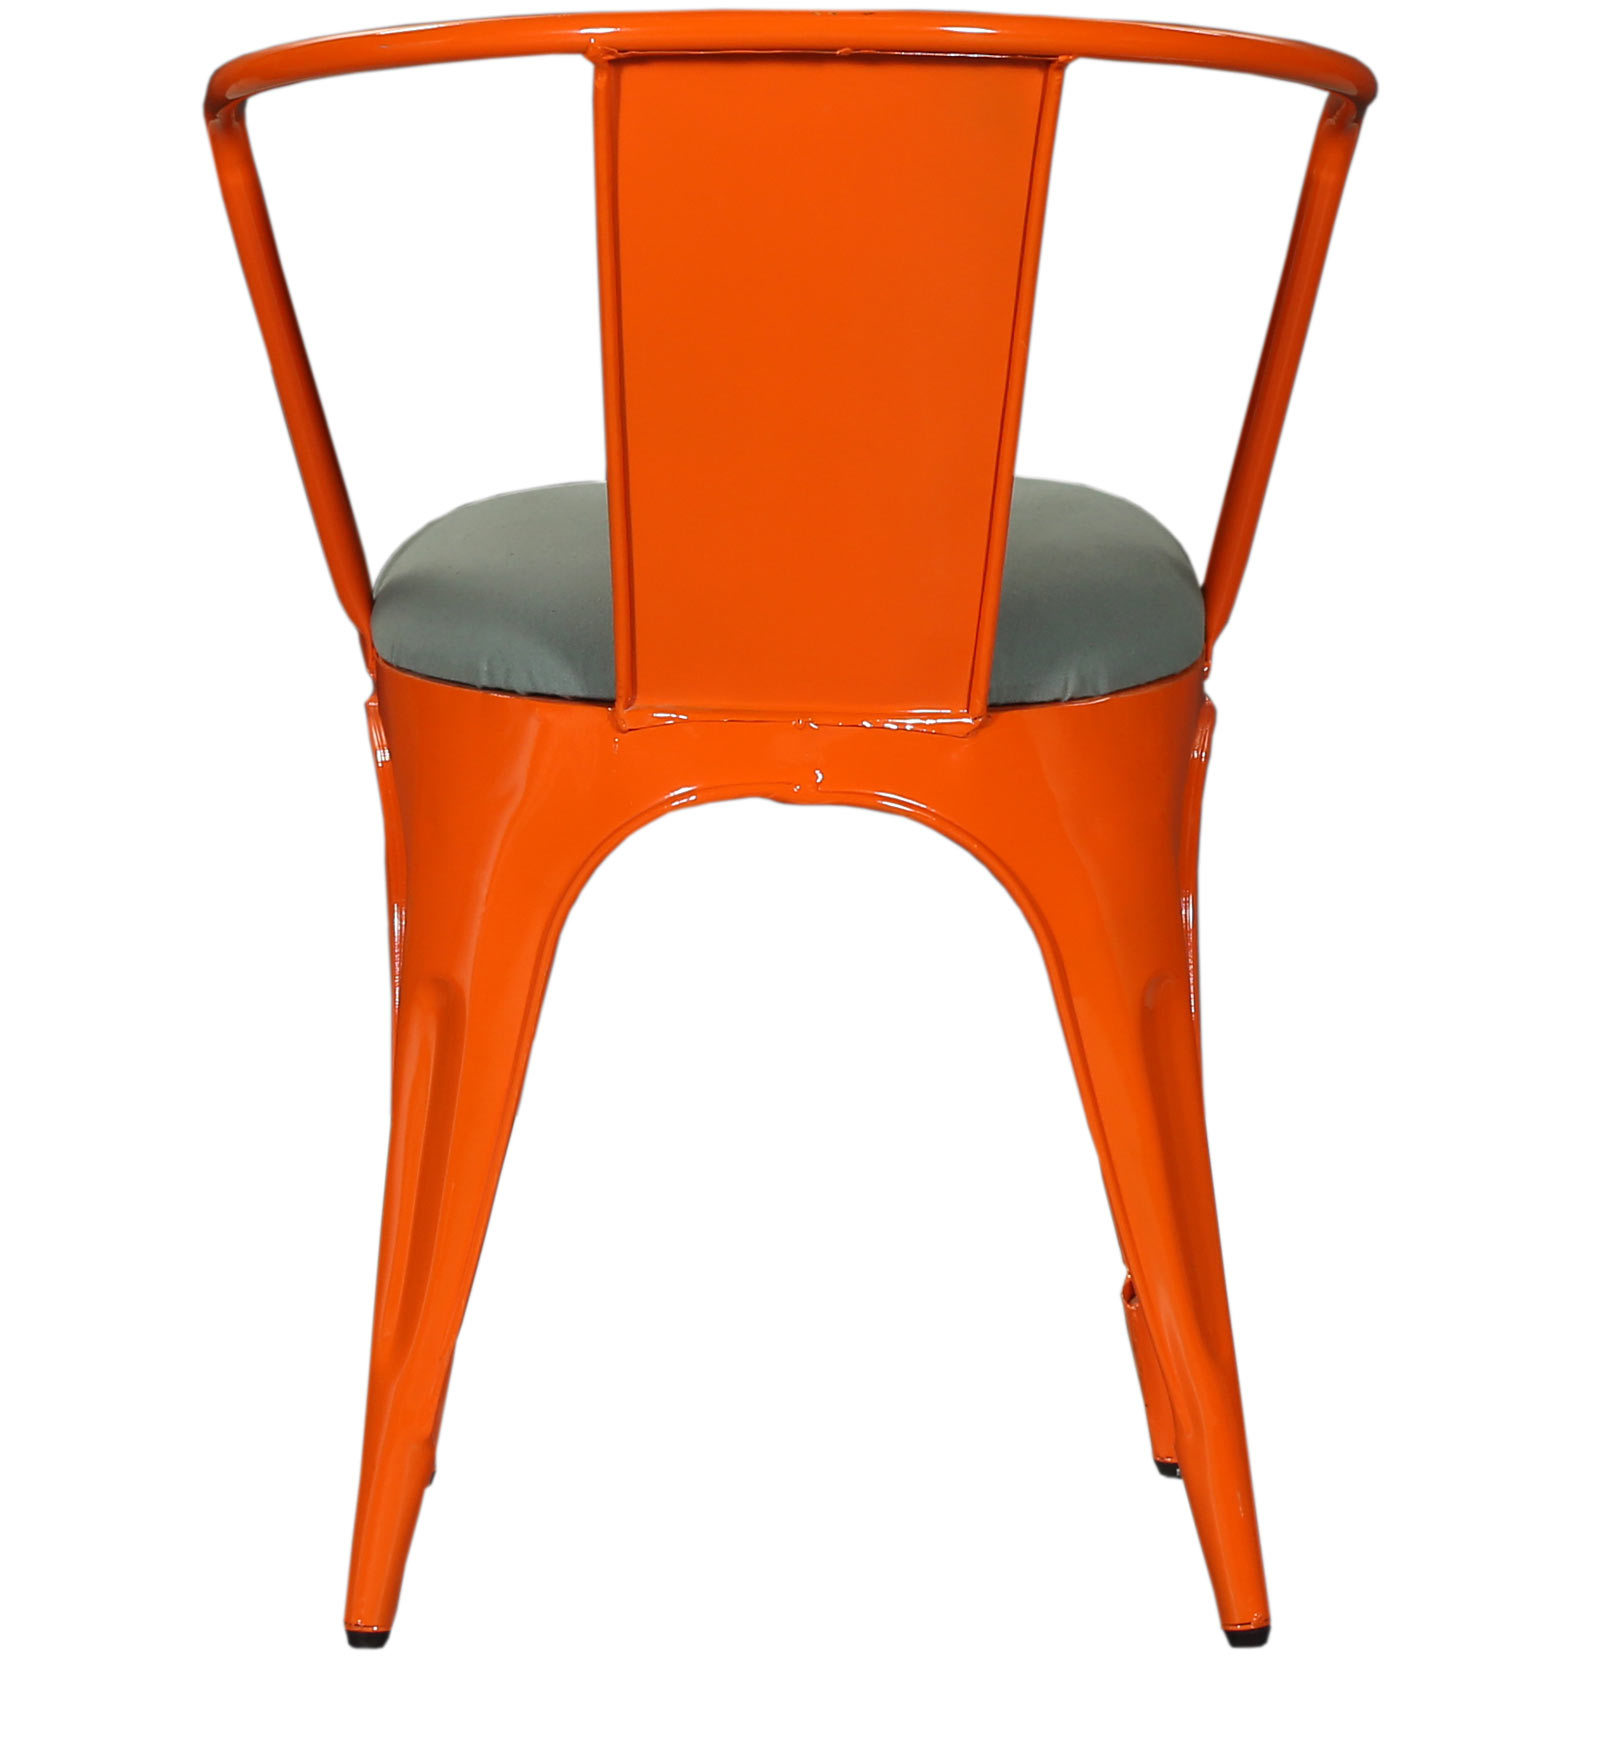Danlou Metal Chair with Cushion In Orange Colour by Bohemiana: (98, 5, 1390, 1677)
